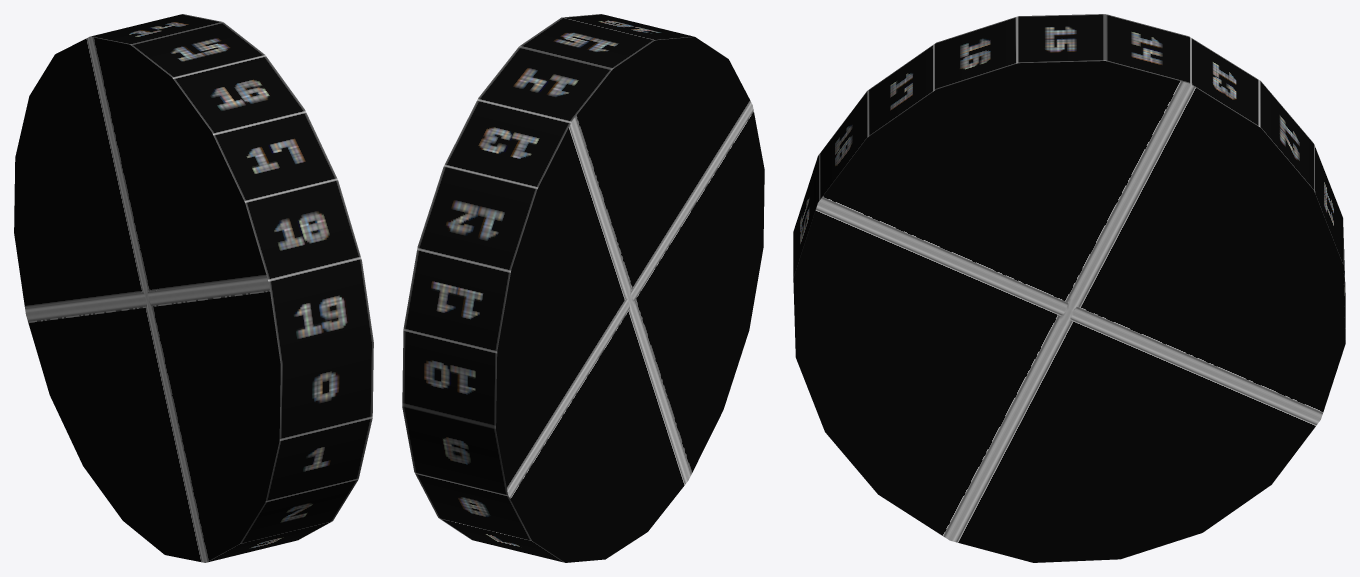
Rendered from slotreel3a.fbx.
3 renders of one model, left to right at view 1: azimuth 30°, elevation 25°; view 2: azimuth 150°, elevation 25°; view 3: azimuth 270°, elevation 25°, orthographic. The views are drawn at different scales.
Parts seen in each view (by area): view 1: Reel; view 2: Reel; view 3: Reel.
Boxes of the visible parts, x1,y1,x2,y2 form: Reel: (14, 14, 373, 562); Reel: (402, 14, 764, 562); Reel: (793, 14, 1345, 562).
Bounding box in the file's own units: 22.11 × 110 × 110.
Materials: 21 (21 with a texture image).
